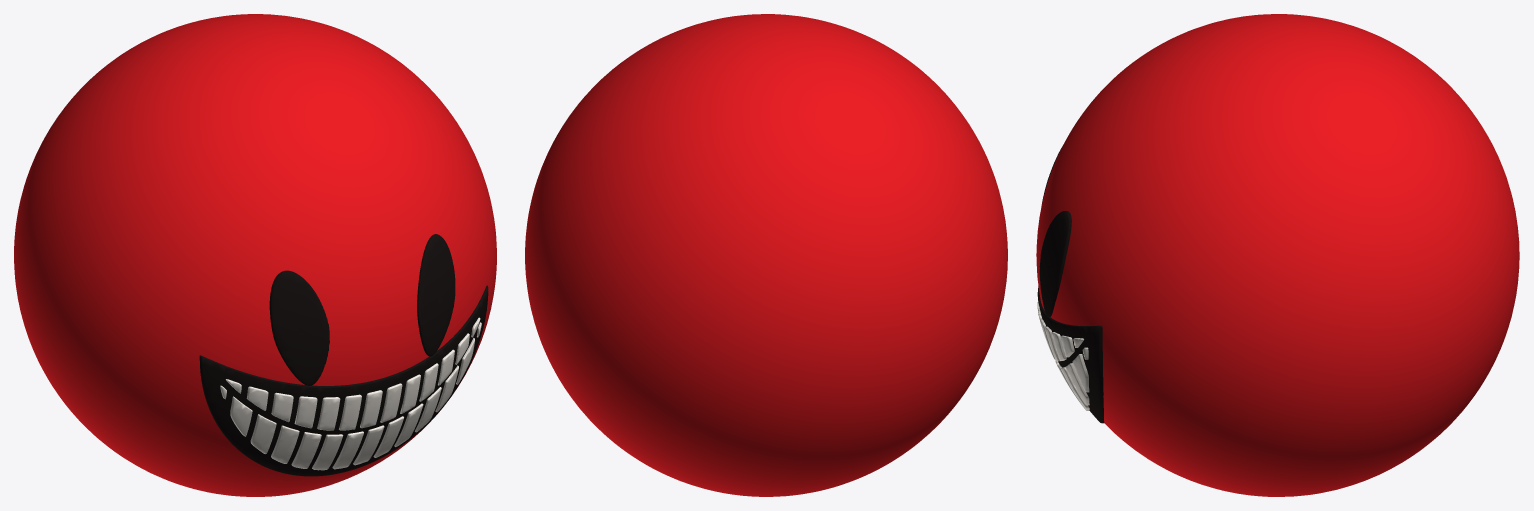
File: cruelty_roblox.glb
The picture shows the model from 3 angles, left to right: view 1: azimuth 30°, elevation 25°; view 2: azimuth 150°, elevation 25°; view 3: azimuth 270°, elevation 25°; orthographic projection.
Parts seen in each view (by area): view 1: Cruelty_Body, Cruelty_Teeth, Cruelty_Mouth, Cruelty_Eyes; view 2: Cruelty_Body; view 3: Cruelty_Body, Cruelty_Mouth, Cruelty_Eyes, Cruelty_Teeth.
Part boxes in pixels (x1,y1,x2,y2): Cruelty_Body: [14, 14, 496, 496]; Cruelty_Teeth: [220, 317, 481, 470]; Cruelty_Mouth: [199, 285, 488, 476]; Cruelty_Eyes: [269, 234, 455, 385]; Cruelty_Body: [525, 14, 1007, 496]; Cruelty_Body: [1036, 14, 1519, 496]; Cruelty_Mouth: [1037, 286, 1104, 423]; Cruelty_Eyes: [1039, 146, 1071, 316]; Cruelty_Teeth: [1037, 302, 1089, 410].
Bounding box in the file's own units: 2.2 × 2.15 × 2.2.
3 materials, 3 textured.
